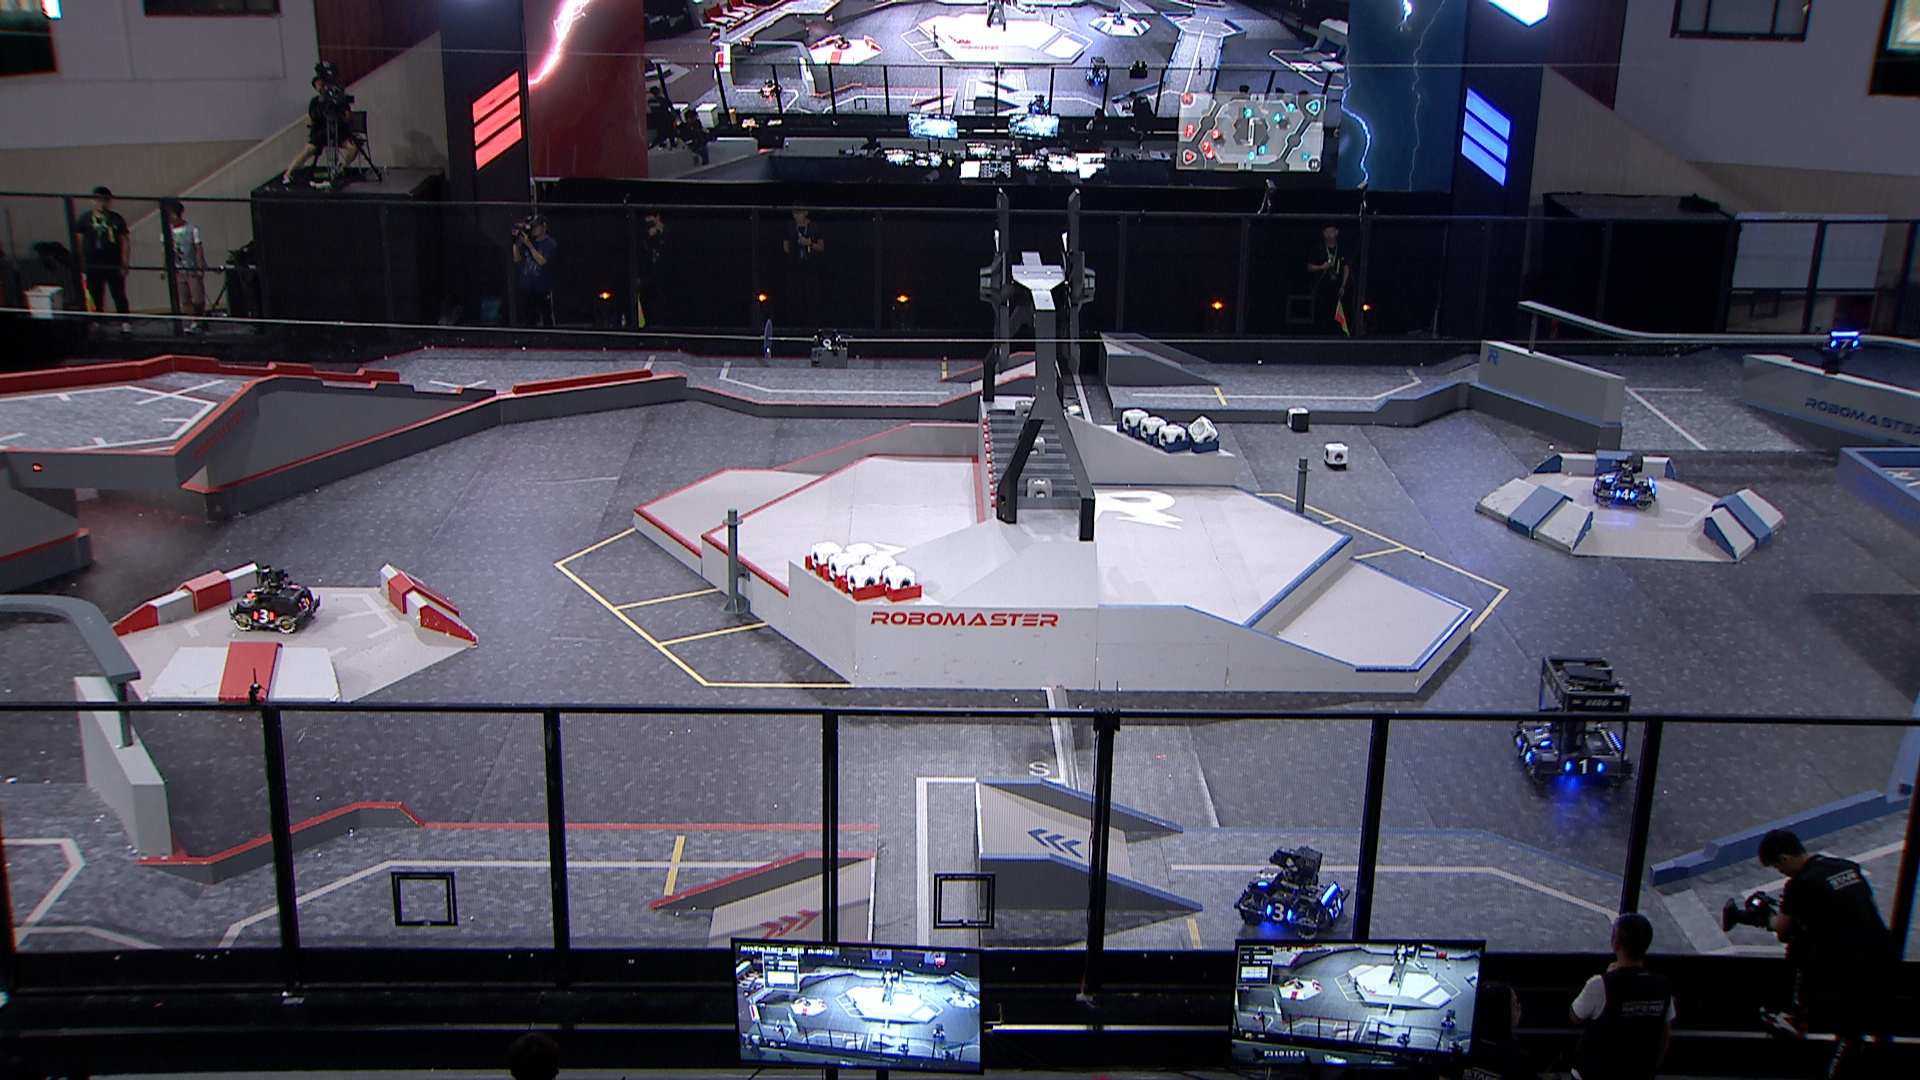armor: (1564, 760, 1605, 778), (1265, 901, 1295, 924), (1518, 736, 1536, 765), (1325, 894, 1344, 922), (252, 607, 277, 624), (1828, 338, 1859, 351), (1253, 870, 1276, 887), (1532, 727, 1549, 746), (1614, 488, 1636, 502), (297, 595, 314, 613), (244, 585, 266, 599)
car: (1509, 655, 1638, 789), (1234, 843, 1352, 942), (225, 566, 320, 636), (1593, 454, 1658, 510)
ignore: (1083, 55, 1110, 86), (1026, 94, 1054, 113), (760, 78, 785, 98), (831, 33, 851, 49), (1110, 11, 1126, 25), (740, 36, 756, 50)
watcher: (1813, 323, 1863, 376)
